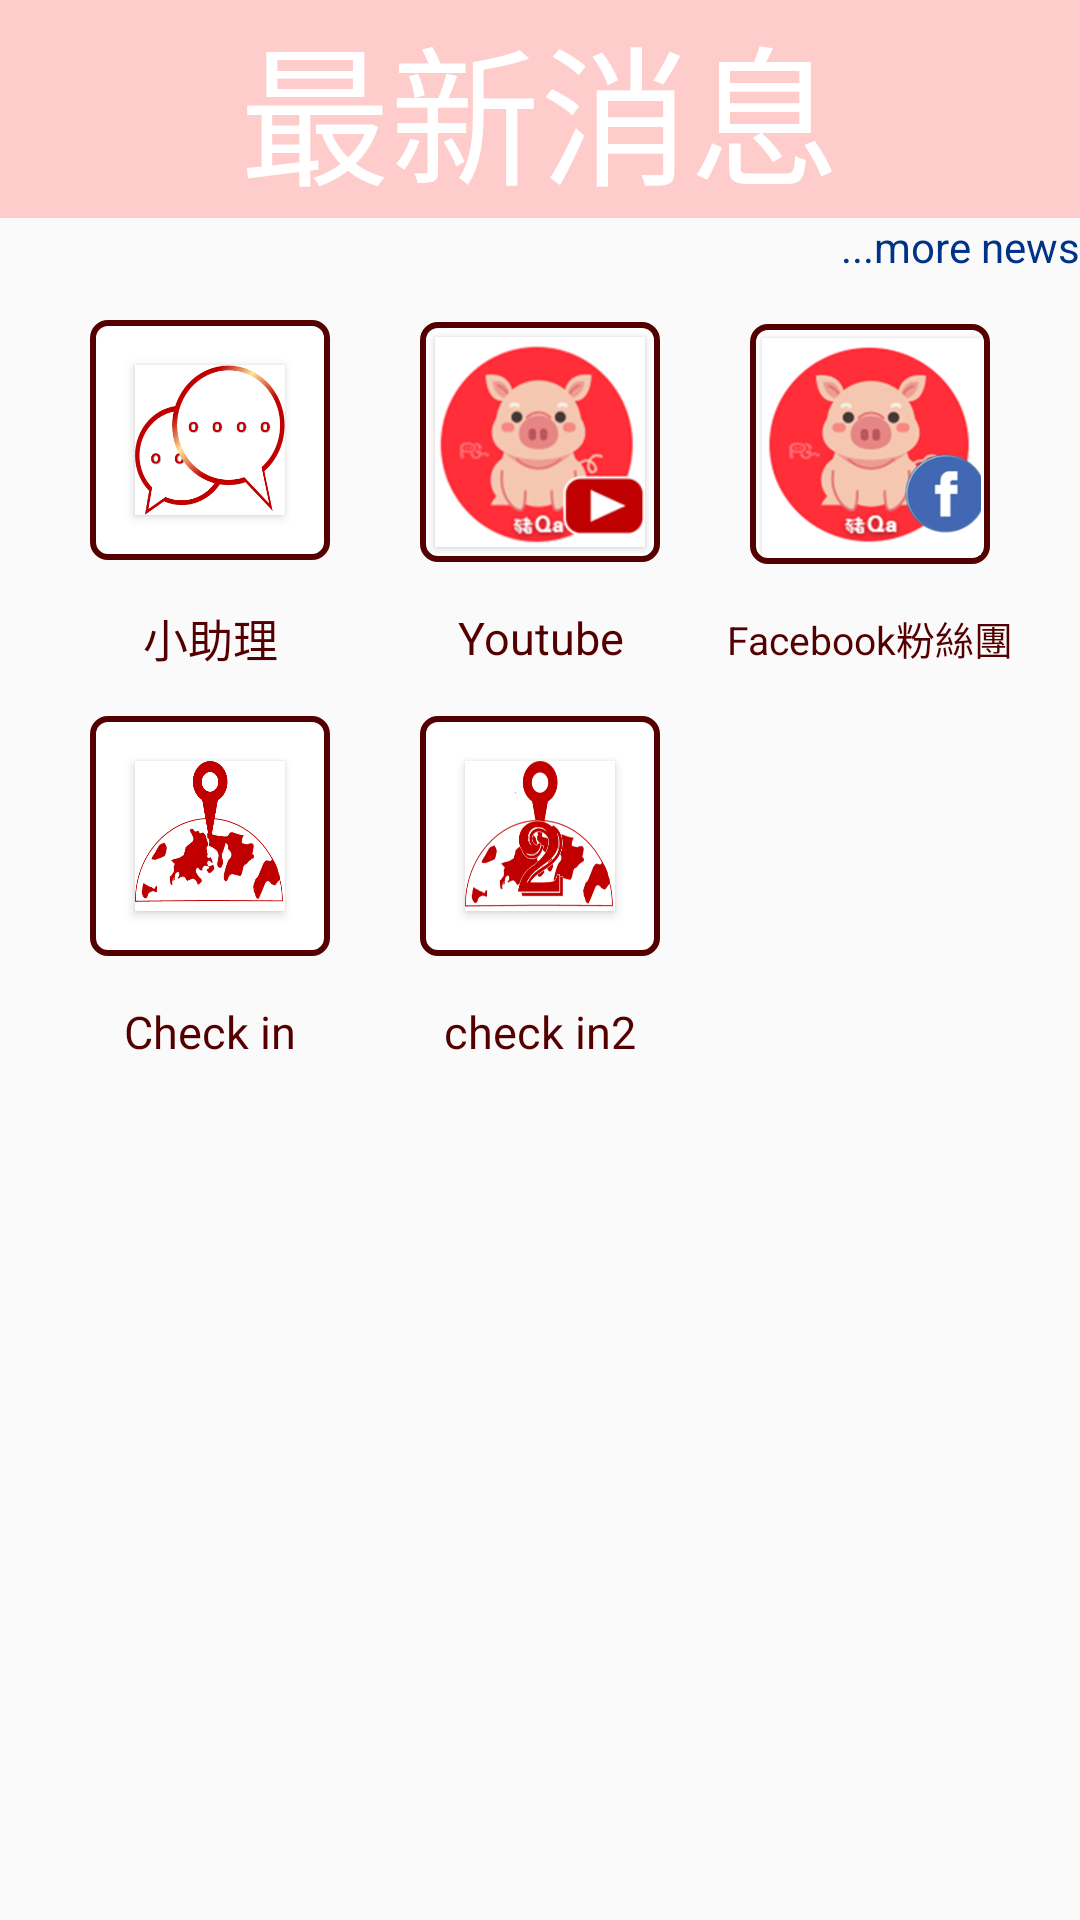

Icons on this 1080 x 1920 Android screen, each with its box as (x1, y1, x2, y2):
map: (135, 761, 283, 902), (465, 761, 613, 907)
